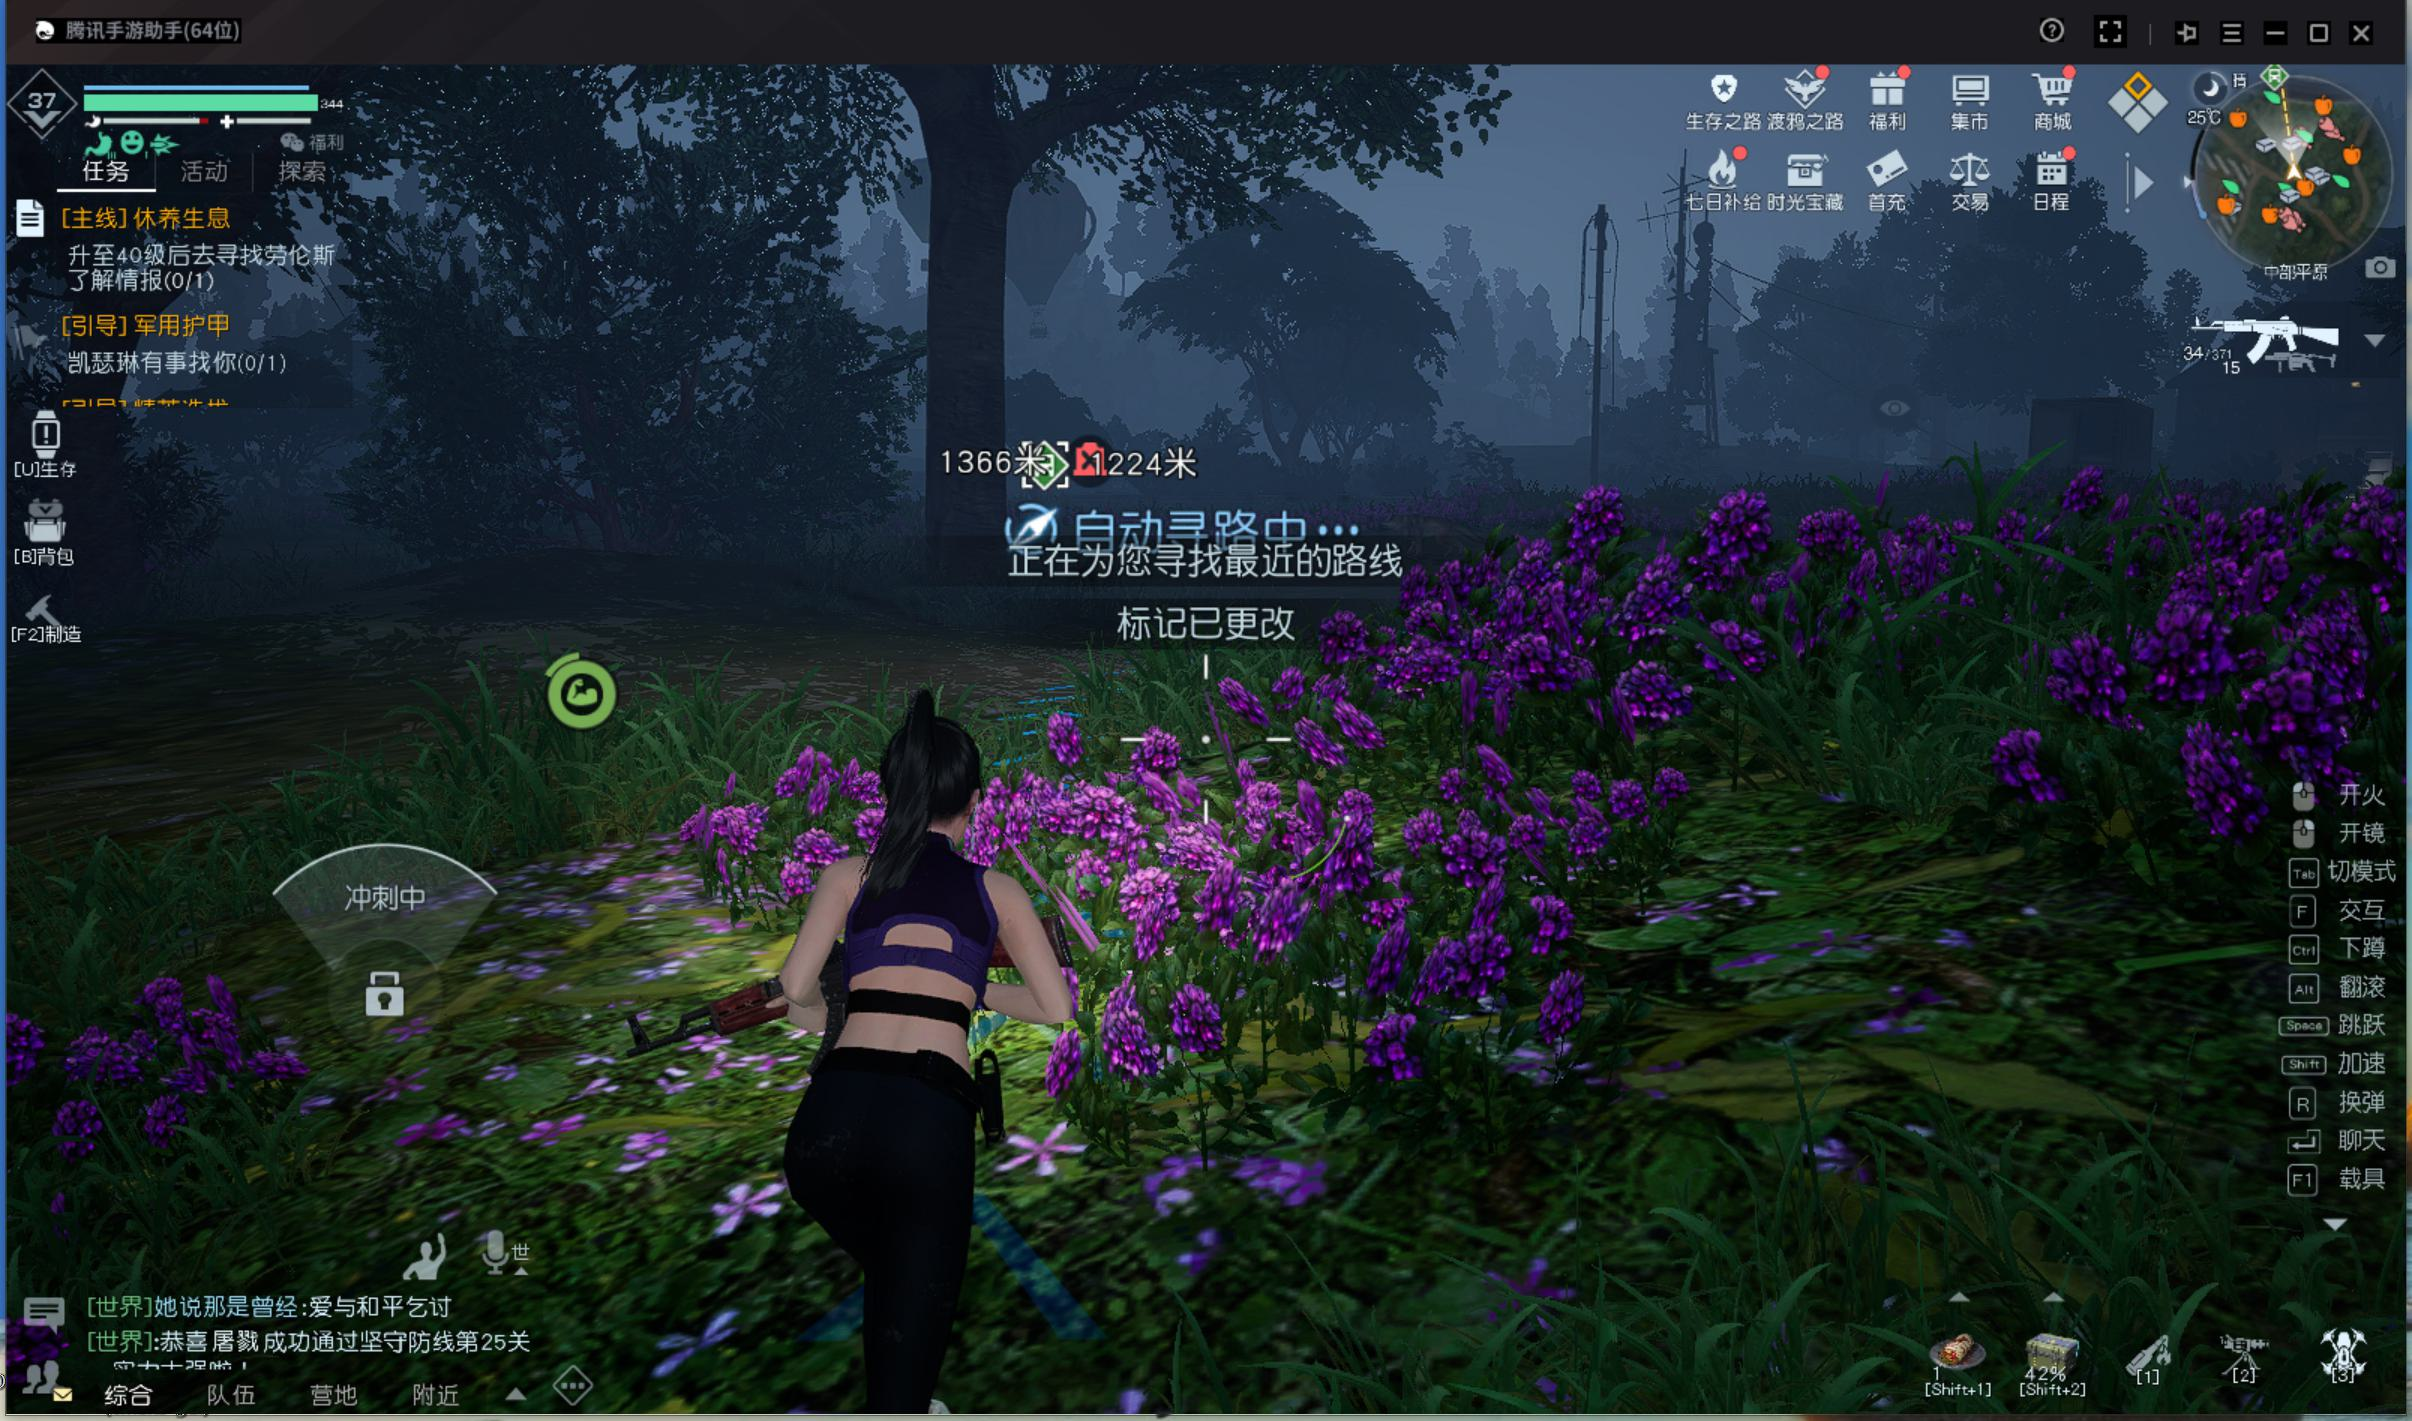tree: (908, 191, 1023, 442)
